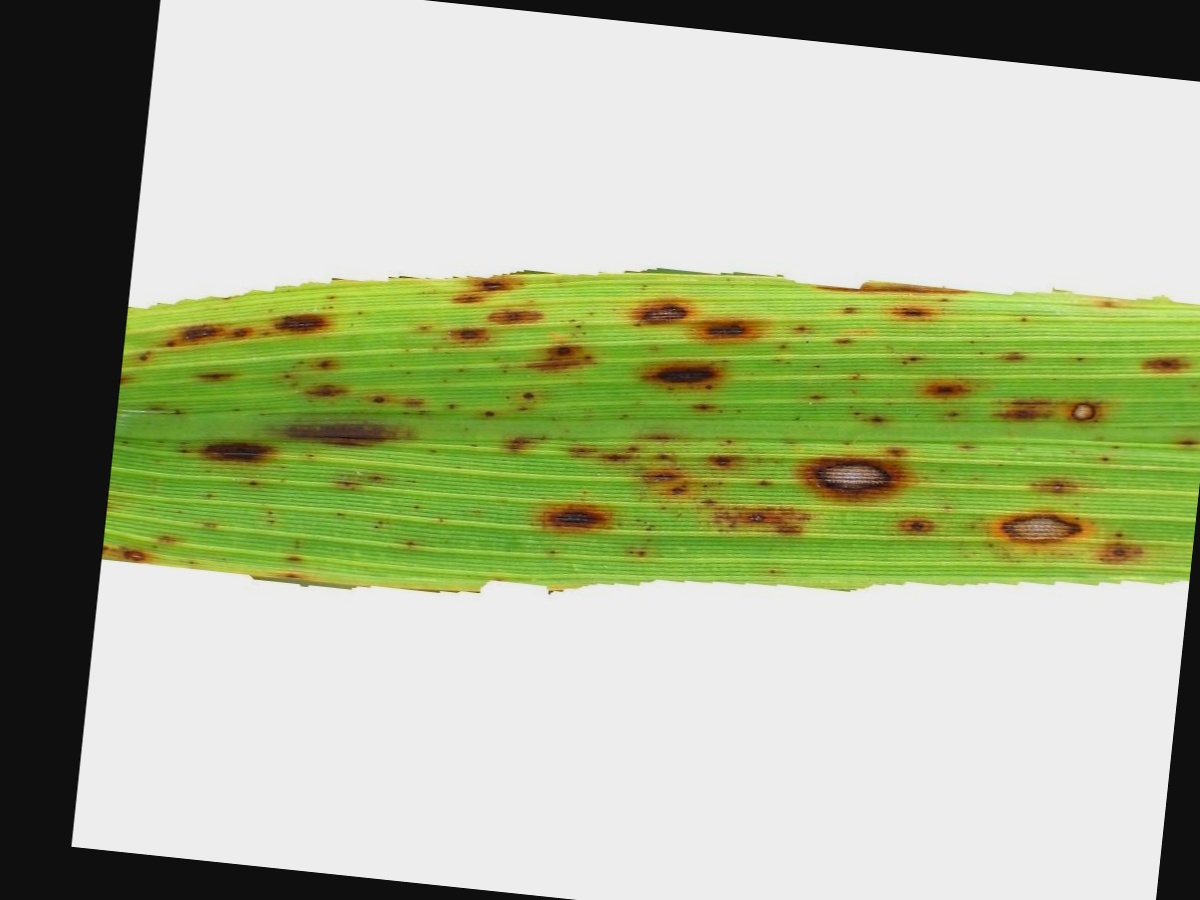Bacterial_Leaf_Blight: (431, 246, 538, 352), (787, 428, 911, 513), (273, 401, 420, 460), (982, 375, 1125, 431), (984, 489, 1100, 556), (538, 479, 624, 555), (515, 320, 608, 390), (627, 340, 734, 396), (682, 291, 771, 358), (154, 309, 251, 367), (698, 490, 807, 538), (177, 423, 273, 469), (628, 280, 698, 323), (275, 296, 332, 343), (1130, 345, 1195, 380), (1094, 534, 1140, 574), (891, 298, 959, 321)
